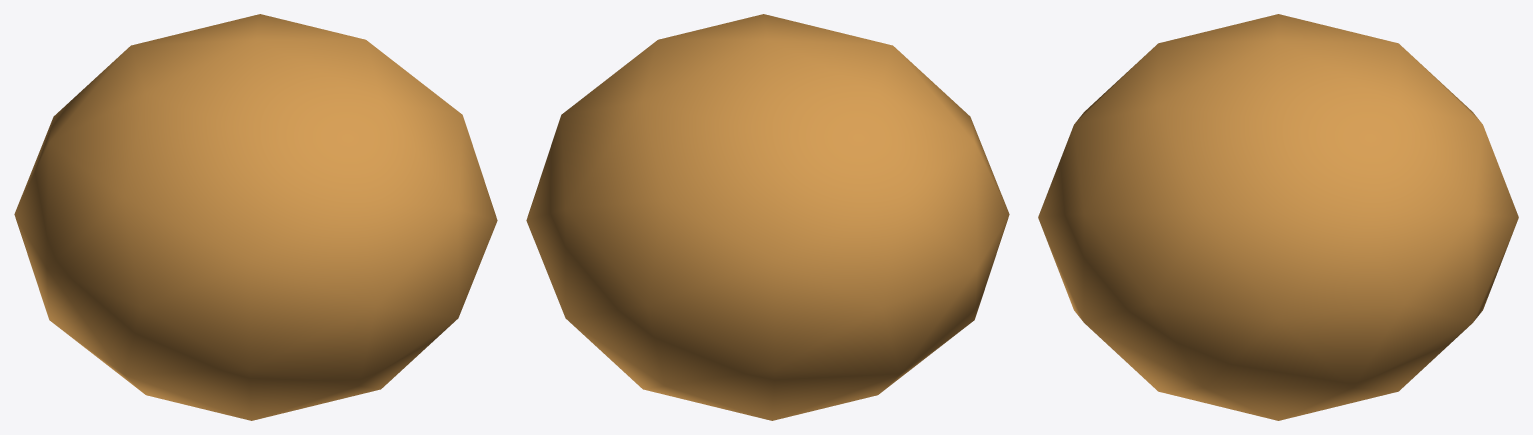
Rendered from carabassa-deco-referencia.glb.
The picture shows the model from 3 angles, left to right: view 1: azimuth 30°, elevation 25°; view 2: azimuth 150°, elevation 25°; view 3: azimuth 270°, elevation 25°; orthographic projection.
Visible parts, largest first — view 1: carabassa-deco-1; view 2: carabassa-deco-1; view 3: carabassa-deco-1.
Part boxes in pixels (<box>): carabassa-deco-1: <box>14,14,497,420</box>; carabassa-deco-1: <box>526,14,1009,420</box>; carabassa-deco-1: <box>1038,14,1518,420</box>.
Size of the model in its own units: 0.8029 by 0.65 by 0.8029.
